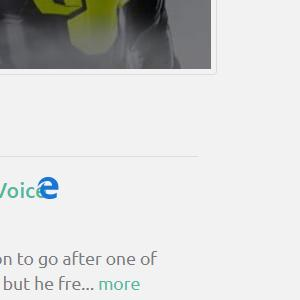edge: (38, 177, 59, 199)
